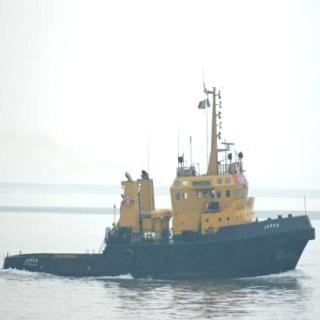Tug Boat: (42, 75, 316, 273)
